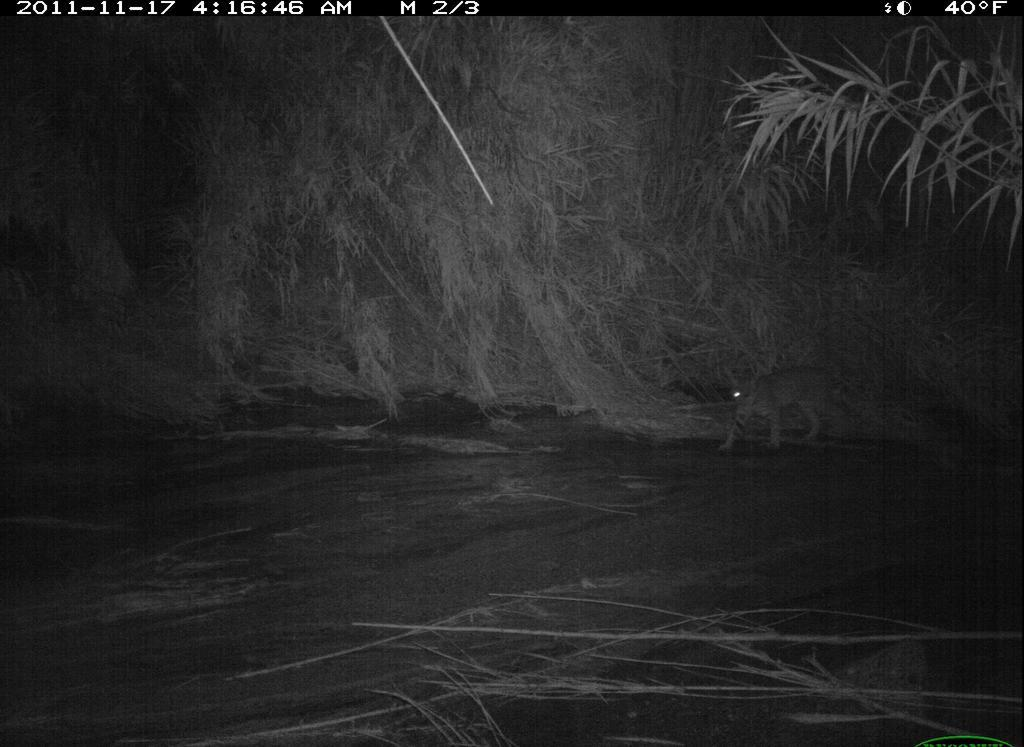bobcat: (712, 360, 876, 466)
